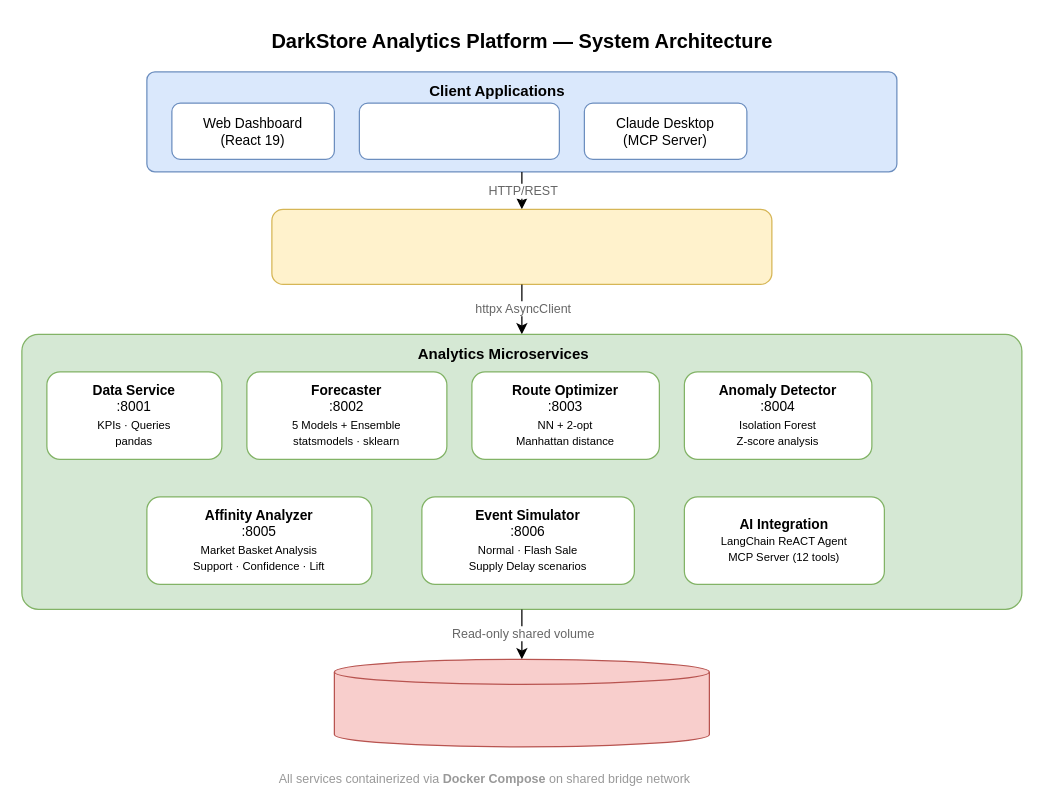
This 1044x811 diagram has some shape labels left out. Here are the shapes that lost their labels. From the top down, the centre of each, then its label:
At point (458, 130): "AI Chatbot (LangGraph + Gemini)".
At point (521, 246): "API Gateway FastAPI · Port 8000 Routing · CORS · Health Checks · Async Proxy".
At point (521, 702): "SQLite Database 1,900 Orders · 150 SKUs · 15 Staff · 185 Alerts".
